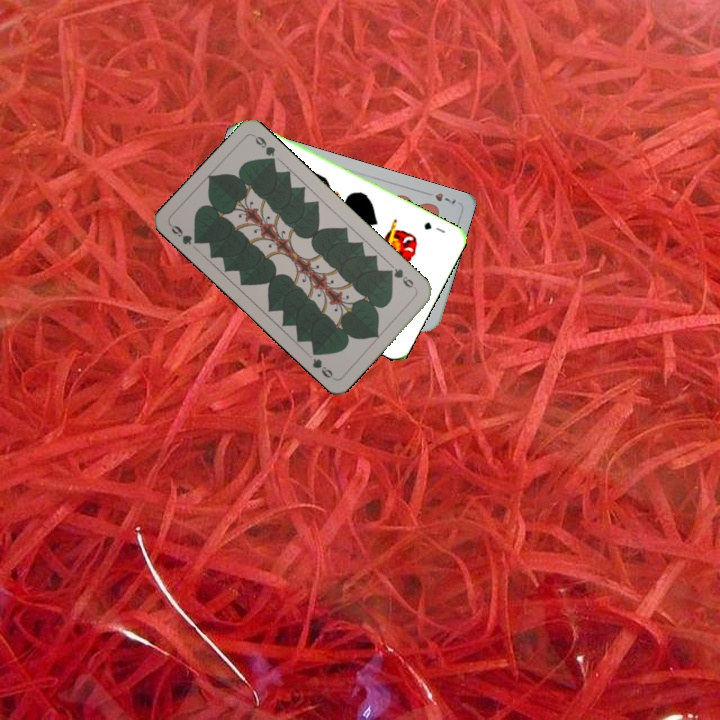G9: (383, 264, 419, 293), (166, 221, 204, 248)
GU: (420, 218, 448, 236)
H7: (420, 187, 459, 207)
